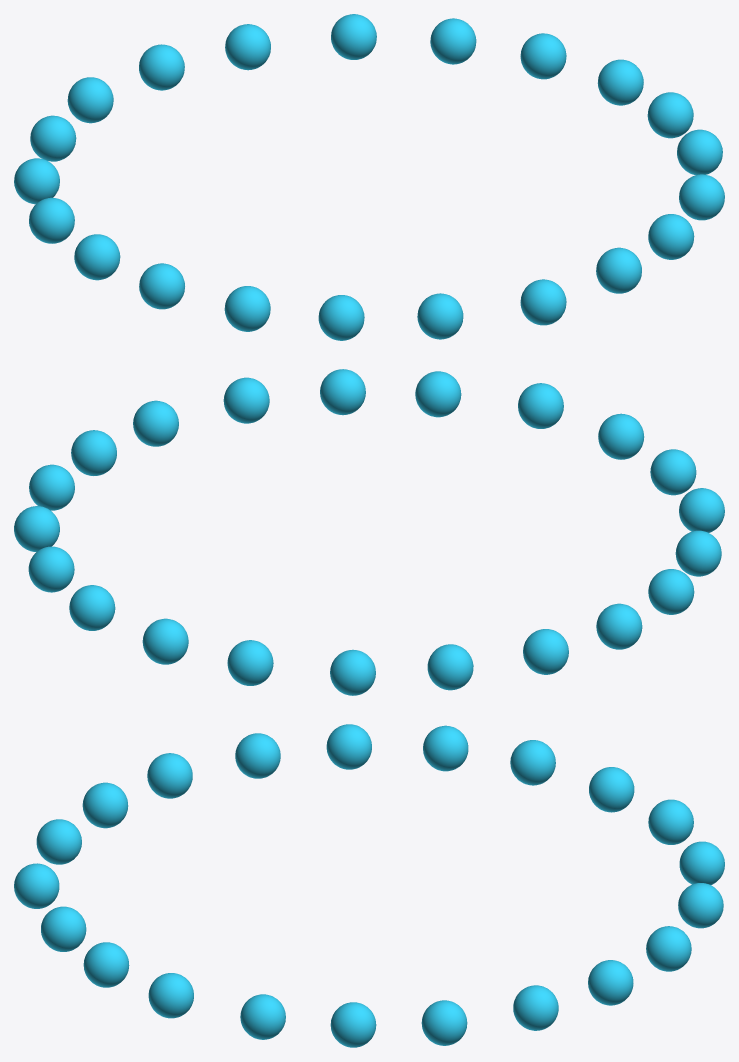
3 renders of one model, top to bottom at view 1: azimuth 30°, elevation 25°; view 2: azimuth 150°, elevation 25°; view 3: azimuth 270°, elevation 25°, orthographic.
Parts seen in each view (by area): view 1: Sphere048; view 2: Sphere048; view 3: Sphere048.
Boxes of the visible parts, box(x1,y1,x2,y2) form: Sphere048: box(14, 14, 724, 340); Sphere048: box(14, 369, 724, 695); Sphere048: box(14, 724, 724, 1047).
Bounding box in the file's own units: 127 × 8.22 × 128.
